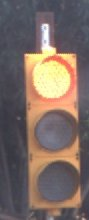Red: (20, 48, 88, 213)
